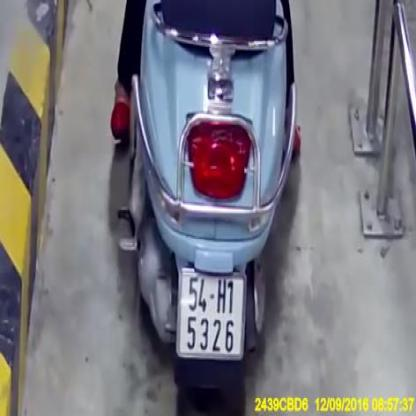Xemay: (176, 267, 247, 362)
